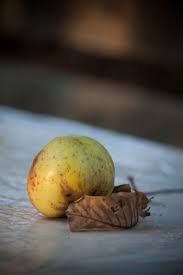damaged_apple: (29, 139, 119, 224)
